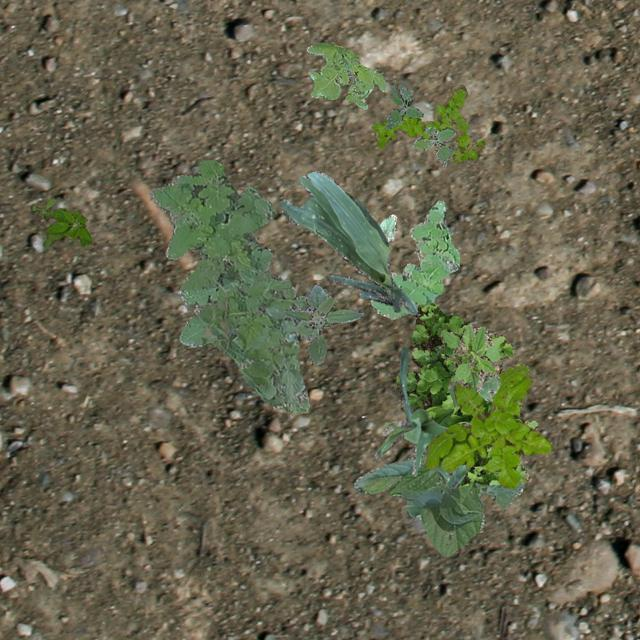crop: (354, 380, 524, 556), (278, 170, 416, 314), (374, 347, 464, 488), (478, 372, 498, 400), (378, 213, 396, 240)
weed: (148, 158, 312, 412), (396, 300, 536, 487), (422, 363, 550, 488), (369, 198, 458, 318), (371, 82, 484, 162), (282, 282, 362, 363), (306, 42, 386, 108), (440, 324, 500, 392), (30, 198, 90, 246), (384, 82, 422, 128), (412, 126, 454, 166)
